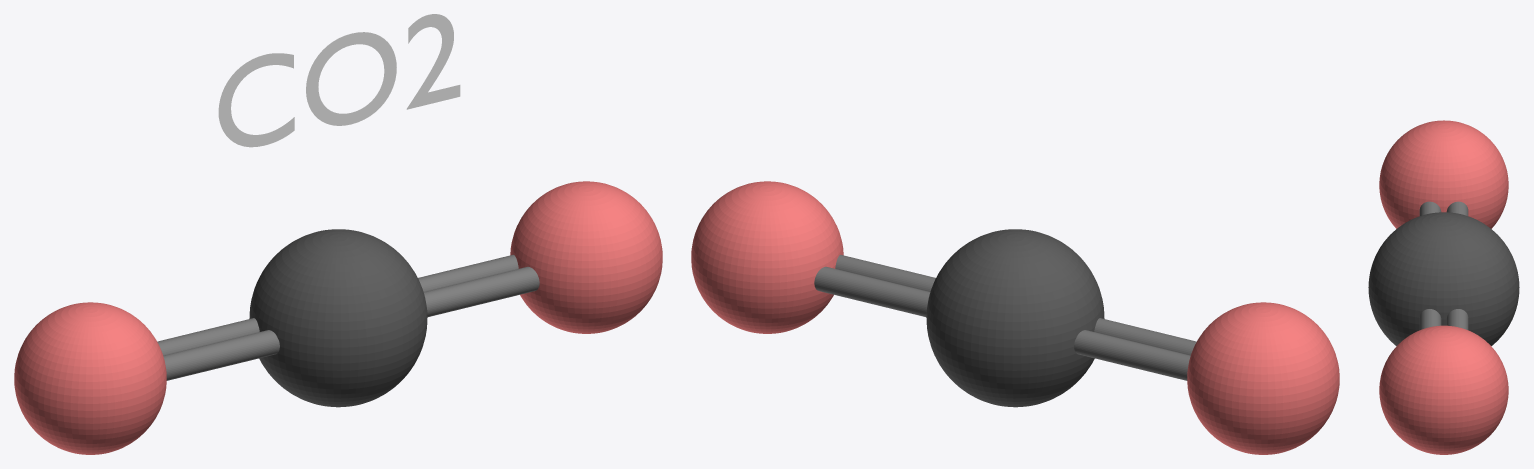
3 views of the same model, side by side, from view 1: azimuth 30°, elevation 25°; view 2: azimuth 150°, elevation 25°; view 3: azimuth 270°, elevation 25° (orthographic). The views are drawn at different scales.
Visible parts, largest first — view 1: C, O1, O2, Label, Bond1_2, Bond2_2, Bond1_1, Bond2_1; view 2: C, O1, O2, Bond1_1, Bond2_1, Bond1_2, Bond2_2; view 3: C, O2, O1, Bond2_1, Bond2_2, Bond1_1, Bond1_2.
Boxes of the visible parts, box(x1,y1,x2,y2) form: C: box(249, 229, 427, 407); O1: box(14, 302, 166, 454); O2: box(510, 181, 662, 333); Label: box(218, 14, 460, 147); Bond1_2: box(163, 330, 279, 380); Bond2_2: box(423, 266, 539, 316); Bond1_1: box(157, 318, 259, 355); Bond2_1: box(418, 254, 518, 291); C: box(926, 229, 1104, 407); O1: box(1187, 302, 1339, 454); O2: box(691, 181, 843, 333); Bond1_1: box(1074, 330, 1190, 380); Bond2_1: box(814, 266, 930, 316); Bond1_2: box(1094, 318, 1196, 355); Bond2_2: box(835, 254, 935, 291); C: box(1368, 212, 1519, 345); O2: box(1379, 325, 1508, 454); O1: box(1379, 120, 1508, 228); Bond2_1: box(1446, 309, 1468, 329); Bond2_2: box(1419, 309, 1441, 329); Bond1_1: box(1446, 201, 1468, 215); Bond1_2: box(1419, 201, 1441, 215).
Size of the model in its own units: 2.28 by 1.26 by 0.56.
